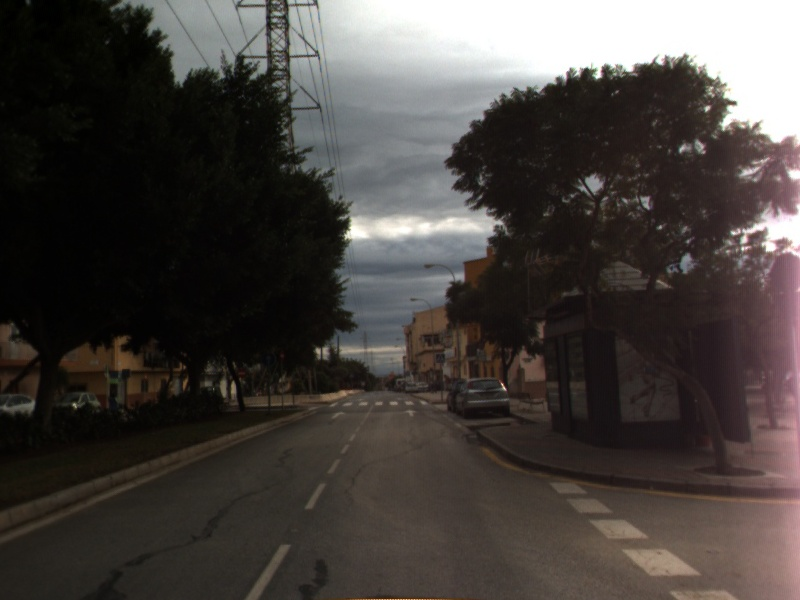STRAIGHT: (328, 409, 348, 421), (401, 407, 420, 418)
